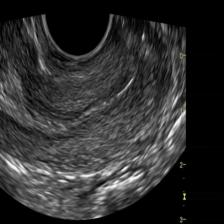no-pcos: (0, 37, 174, 220)
